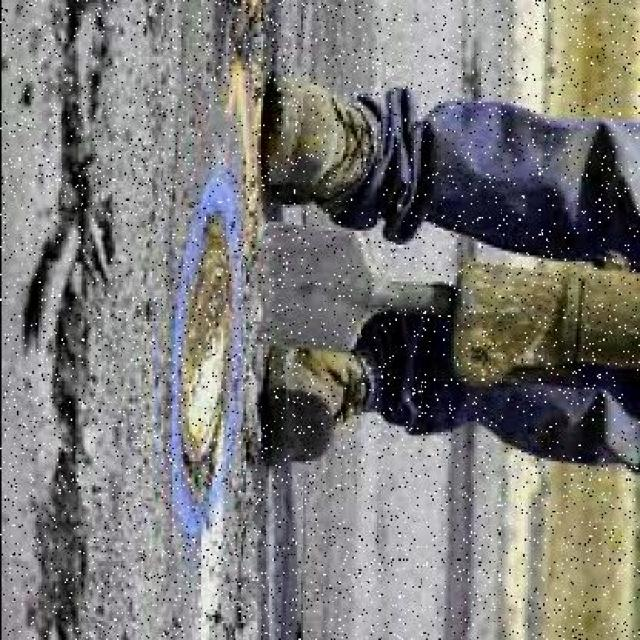shoes: (255, 86, 382, 220), (252, 332, 378, 460)
